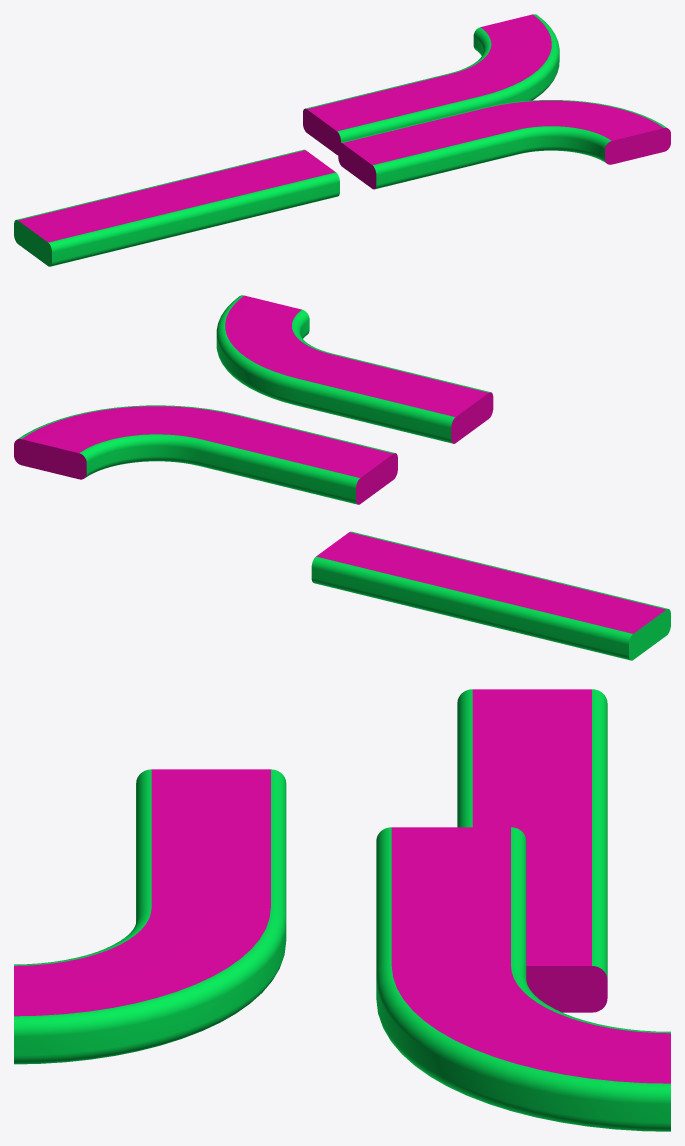
File: 3 track.fbx
3 renders of one model, top to bottom at view 1: azimuth 30°, elevation 25°; view 2: azimuth 150°, elevation 25°; view 3: azimuth 270°, elevation 25°, orthographic. The views are drawn at different scales.
Visible parts, largest first — view 1: roads.005, roads.002, roads.004; view 2: roads.004, roads.005, roads.002; view 3: roads.004, roads.002, roads.005.
Part boxes in pixels (<box>): roads.005: <box>14,149,339,266</box>; roads.002: <box>338,100,670,189</box>; roads.004: <box>303,14,559,155</box>; roads.004: <box>14,405,397,504</box>; roads.005: <box>311,531,670,660</box>; roads.002: <box>216,295,493,443</box>; roads.004: <box>376,827,670,1131</box>; roads.002: <box>14,769,286,1064</box>; roads.005: <box>457,689,607,1012</box>.
Size of the model in its own units: 6766 by 1211 by 3607.
